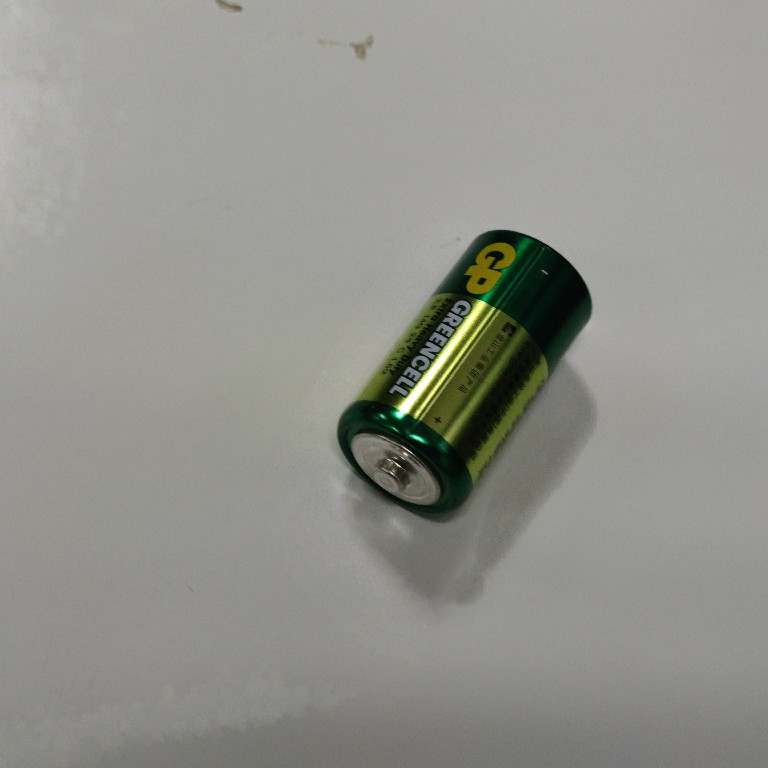charge: (329, 225, 596, 522)
